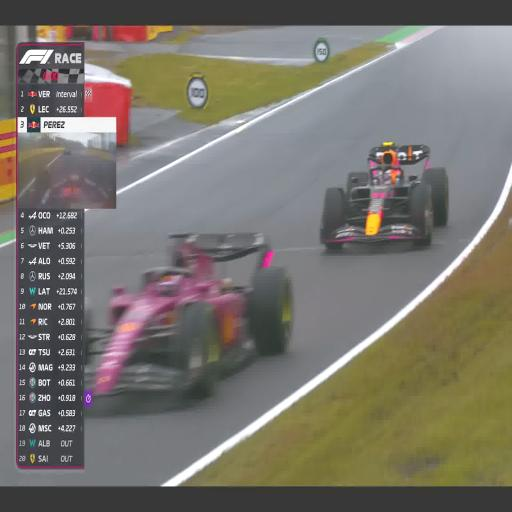f1_car: (83, 233, 293, 399), (320, 142, 448, 249)
